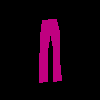pantaloni: (38, 18, 62, 82)
